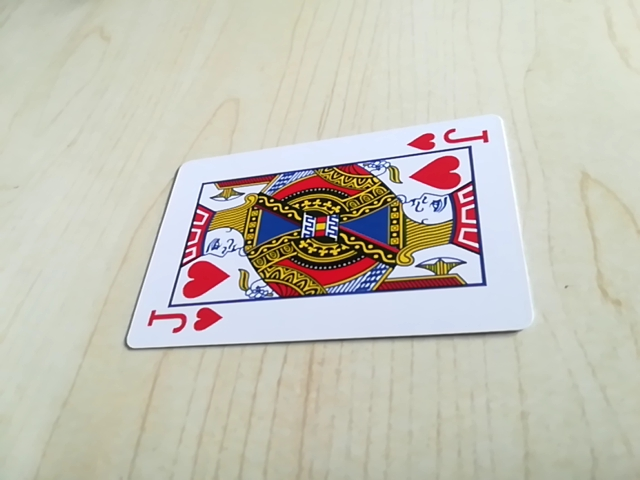hx j: (144, 302, 222, 341), (408, 125, 494, 153)
